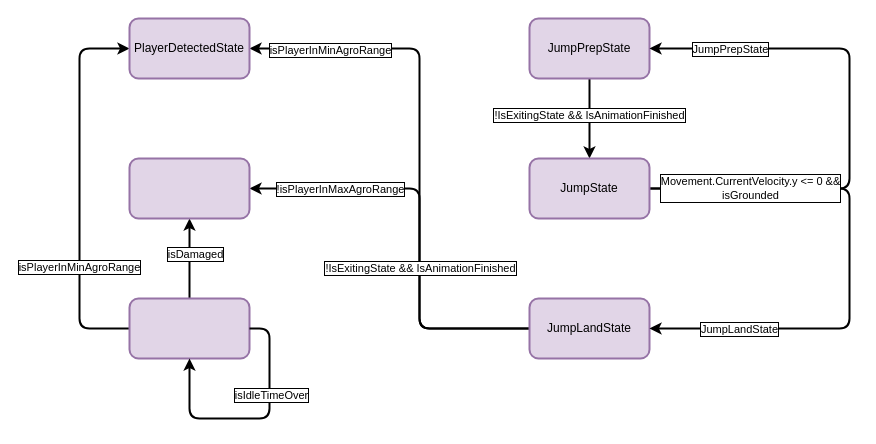
Some shapes in this 876 by 444 pixel diagram are drawn without their labels. The centre of each missing label's shape, as x and y in pixels:
"IdleState" goes at (x=189, y=328).
"LookForPlayerState" goes at (x=189, y=188).
